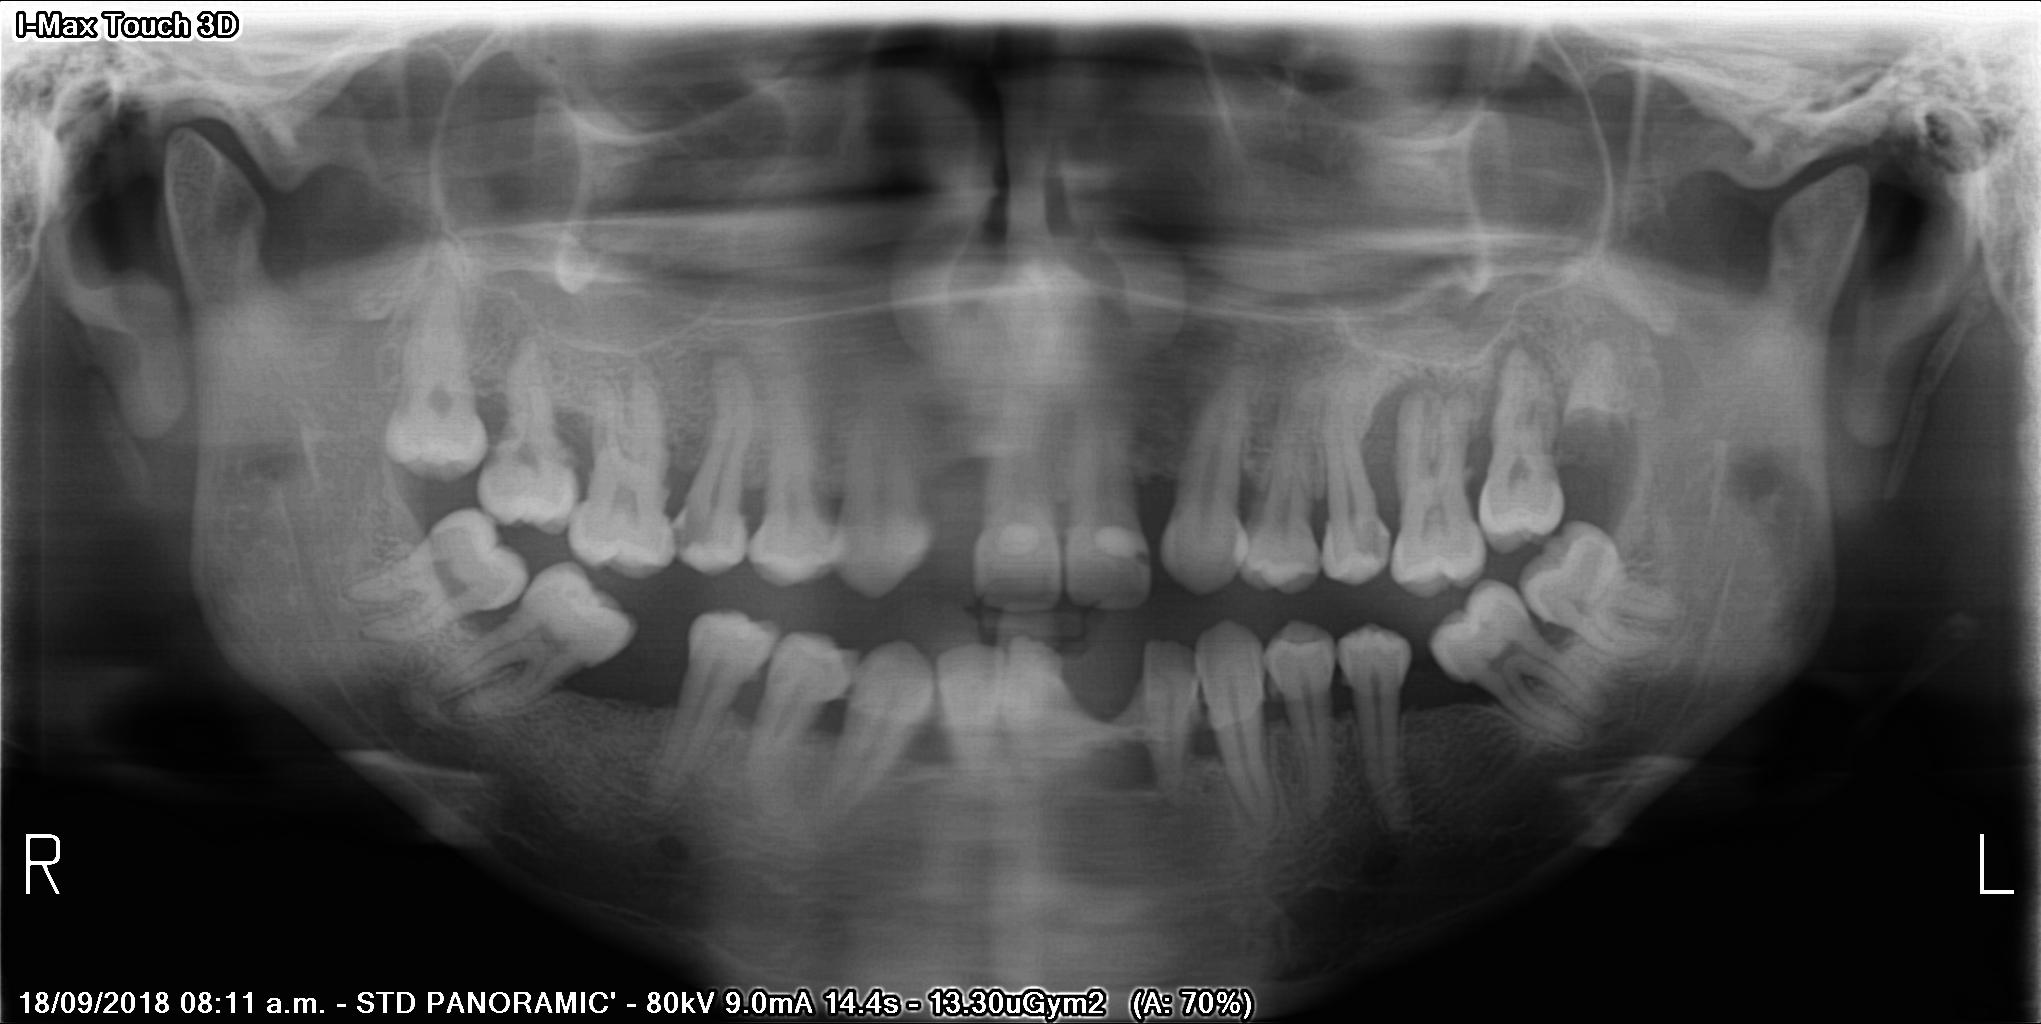Çürük: (1090, 526, 1143, 562)
Çürük Bölgesi: (667, 498, 713, 559), (1132, 542, 1158, 583)
